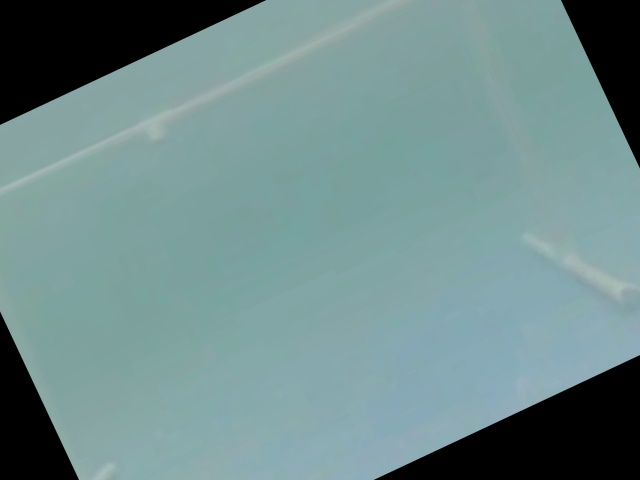gate: (9, 9, 626, 430)
